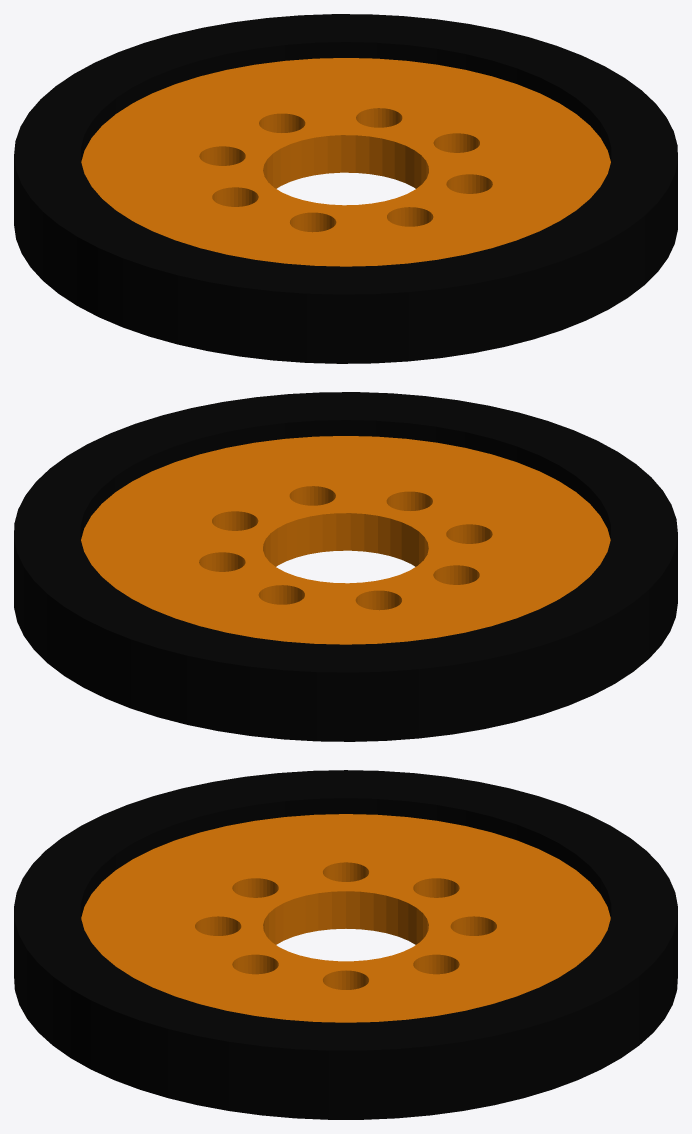
3 renders of one model, top to bottom at view 1: azimuth 30°, elevation 25°; view 2: azimuth 150°, elevation 25°; view 3: azimuth 270°, elevation 25°, orthographic.
Visible parts, largest first — view 1: ROB-12145; view 2: ROB-12145; view 3: ROB-12145.
Boxes of the visible parts, x1=… form: ROB-12145: x1=14, y1=14, x2=677, y2=363; ROB-12145: x1=14, y1=392, x2=677, y2=741; ROB-12145: x1=14, y1=770, x2=677, y2=1119.
Size of the model in its own units: 50.77 by 50.78 by 5.84.
